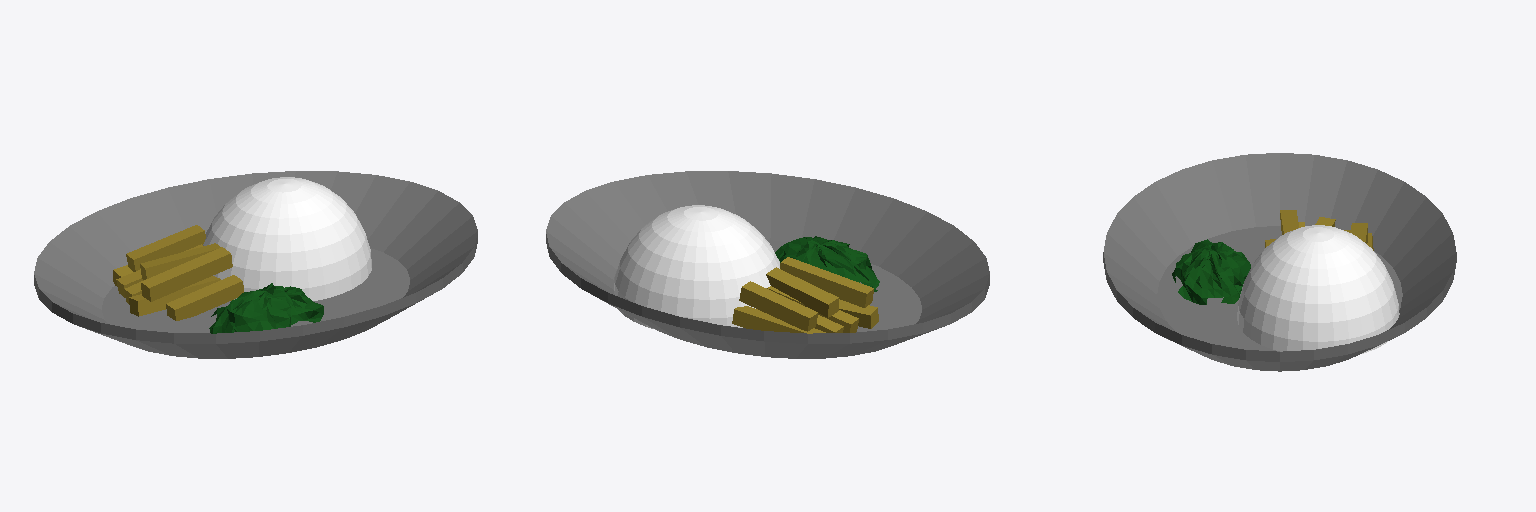
The model's file is rice3_meat3_veg1.obj.
3 views of the same model, side by side, from view 1: azimuth 30°, elevation 25°; view 2: azimuth 150°, elevation 25°; view 3: azimuth 270°, elevation 25° (orthographic).
Parts seen in each view (by area): view 1: Cylinder, Sphere, Sphere.001, Cube.007, Cube.004_Cube.005, Cube.005_Cube.000, Cube.002_Cube.003, Cube.006; view 2: Cylinder, Sphere, Sphere.001, Cube.007, Cube.005_Cube.000, Cube.006, Cube.003_Cube.004, Cube.002_Cube.003, Cube.001_Cube.002; view 3: Cylinder, Sphere, Sphere.001.
Part boxes in pixels (x1,y1,x2,y2): Cylinder: (34,171,477,358); Sphere: (203,177,371,300); Sphere.001: (209,283,323,333); Cube.007: (141,247,232,301); Cube.004_Cube.005: (166,275,243,320); Cube.005_Cube.000: (126,225,205,271); Cube.002_Cube.003: (129,276,220,316); Cube.006: (140,243,220,279); Cylinder: (546,171,989,358); Sphere: (614,205,779,330); Sphere.001: (775,236,879,291); Cube.007: (780,257,873,307); Cube.005_Cube.000: (739,281,817,331); Cube.006: (766,267,838,317); Cube.003_Cube.004: (732,306,825,333); Cube.002_Cube.003: (839,299,878,328); Cube.001_Cube.002: (767,286,858,332); Cylinder: (1103,153,1456,371); Sphere: (1237,225,1399,353); Sphere.001: (1172,239,1250,304).
Bounding box in the file's own units: 5.75 × 1.25 × 4.31.